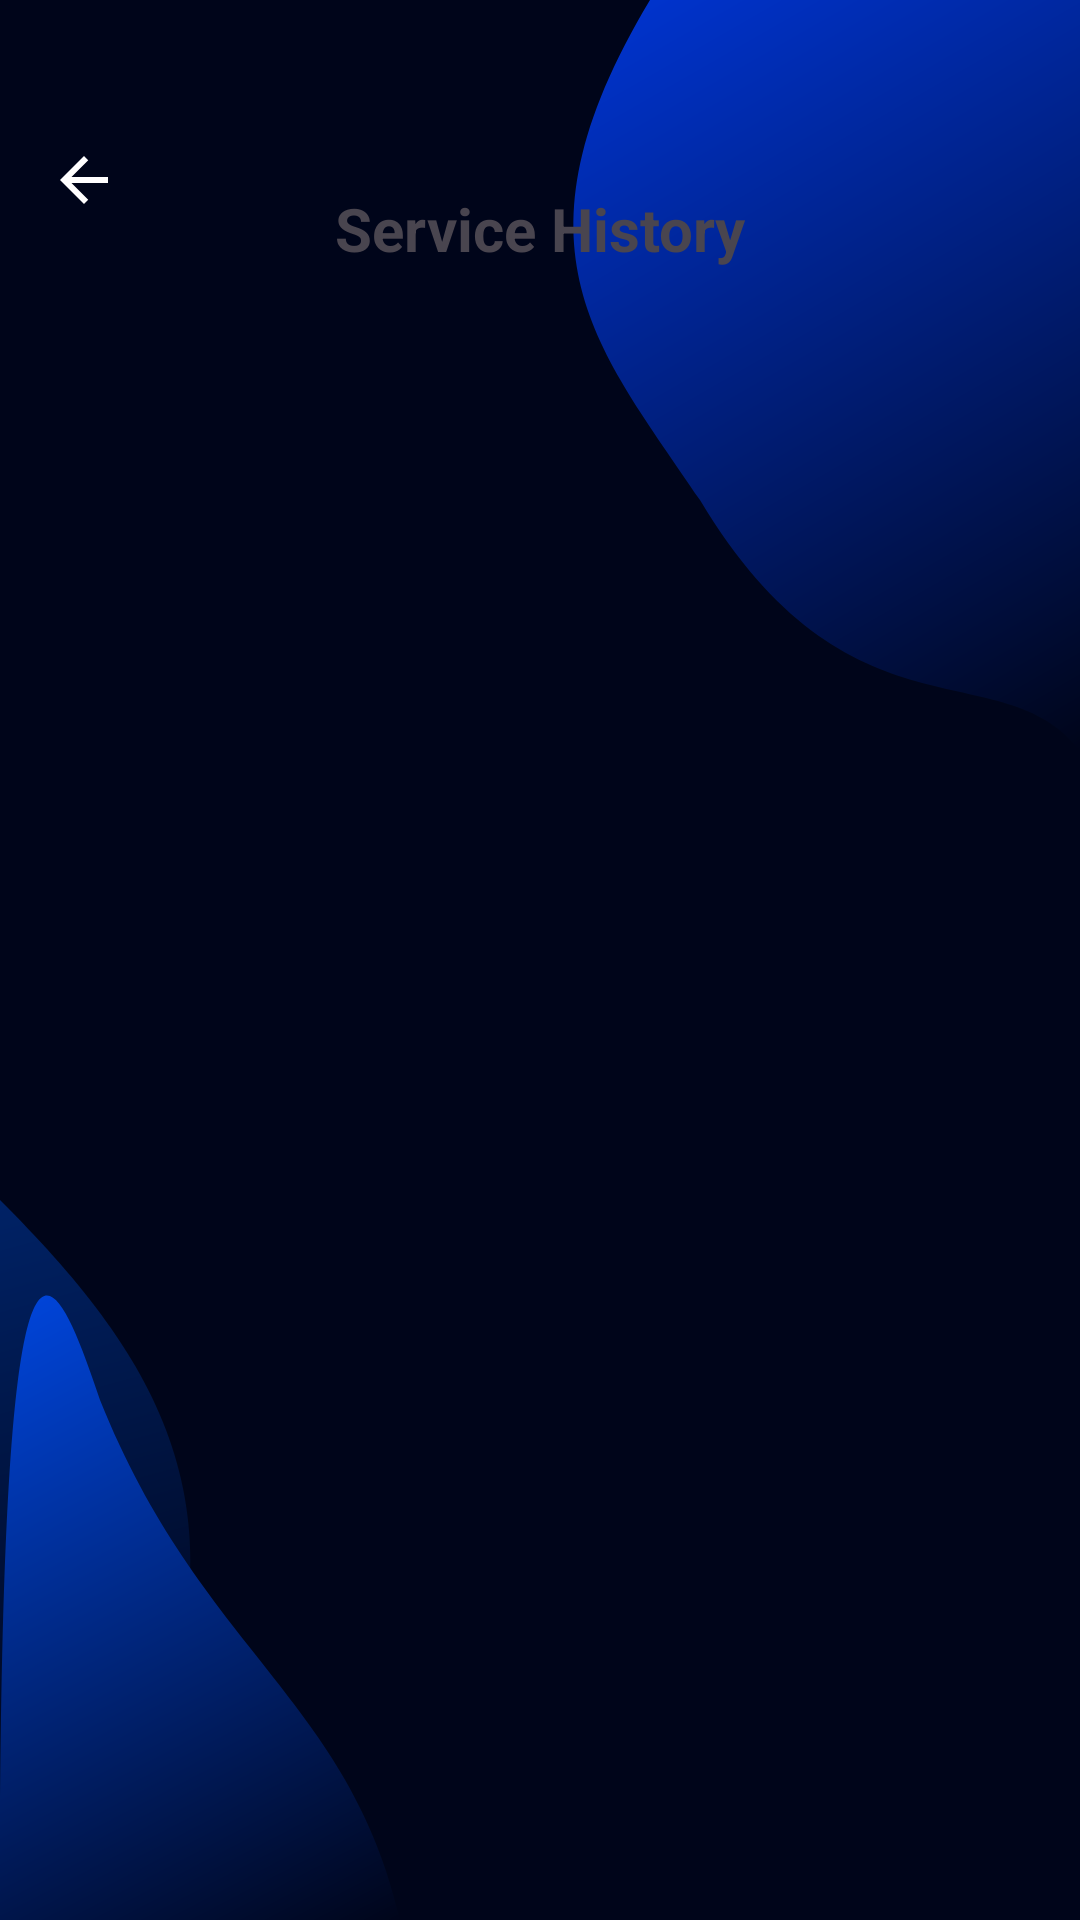

Screen size 1080*1920. Icon name, then its center in pixels as point (x, y):
back: point (84, 180)
